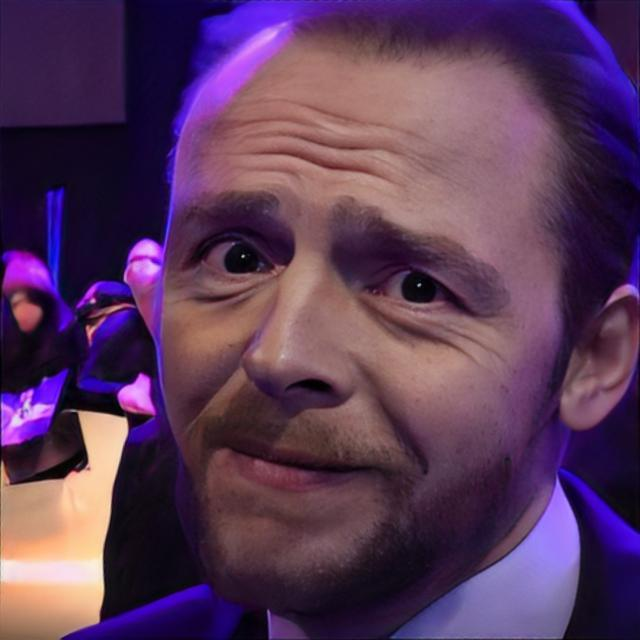fear: (154, 0, 562, 617)
